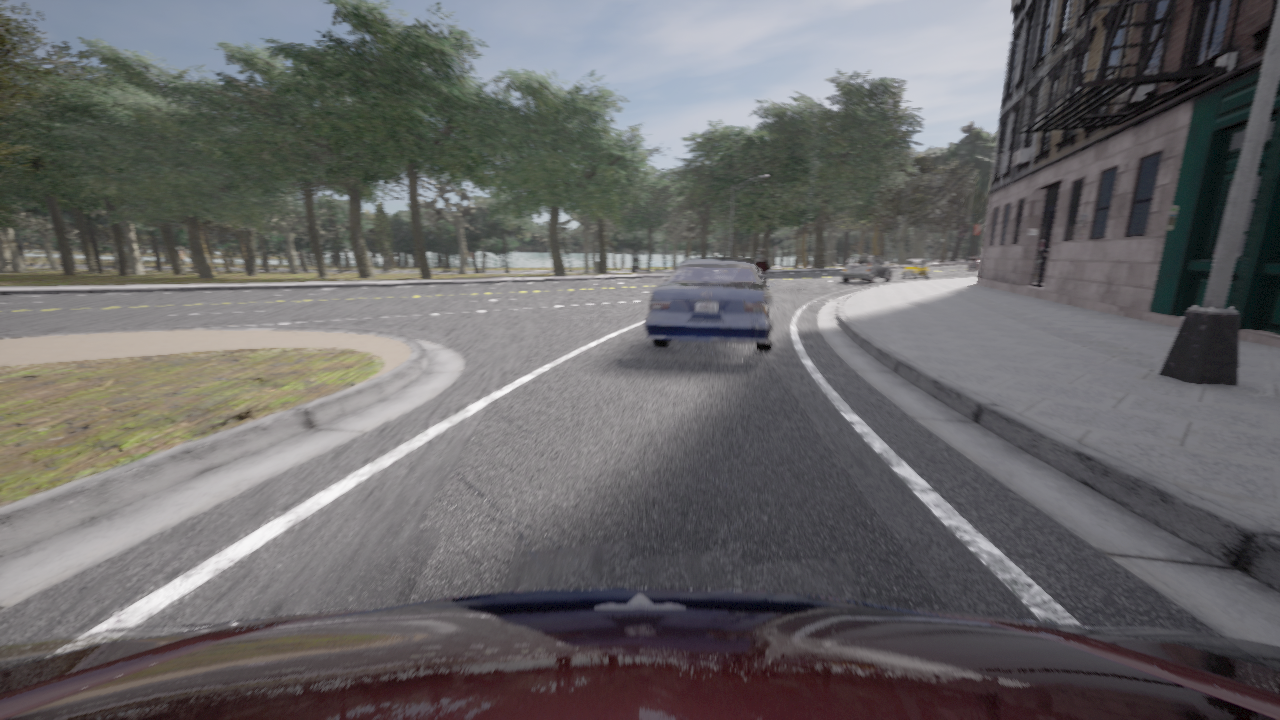cyclist: (0, 588, 1279, 719), (644, 258, 775, 351), (841, 255, 892, 283), (902, 259, 930, 278), (968, 259, 977, 269)
